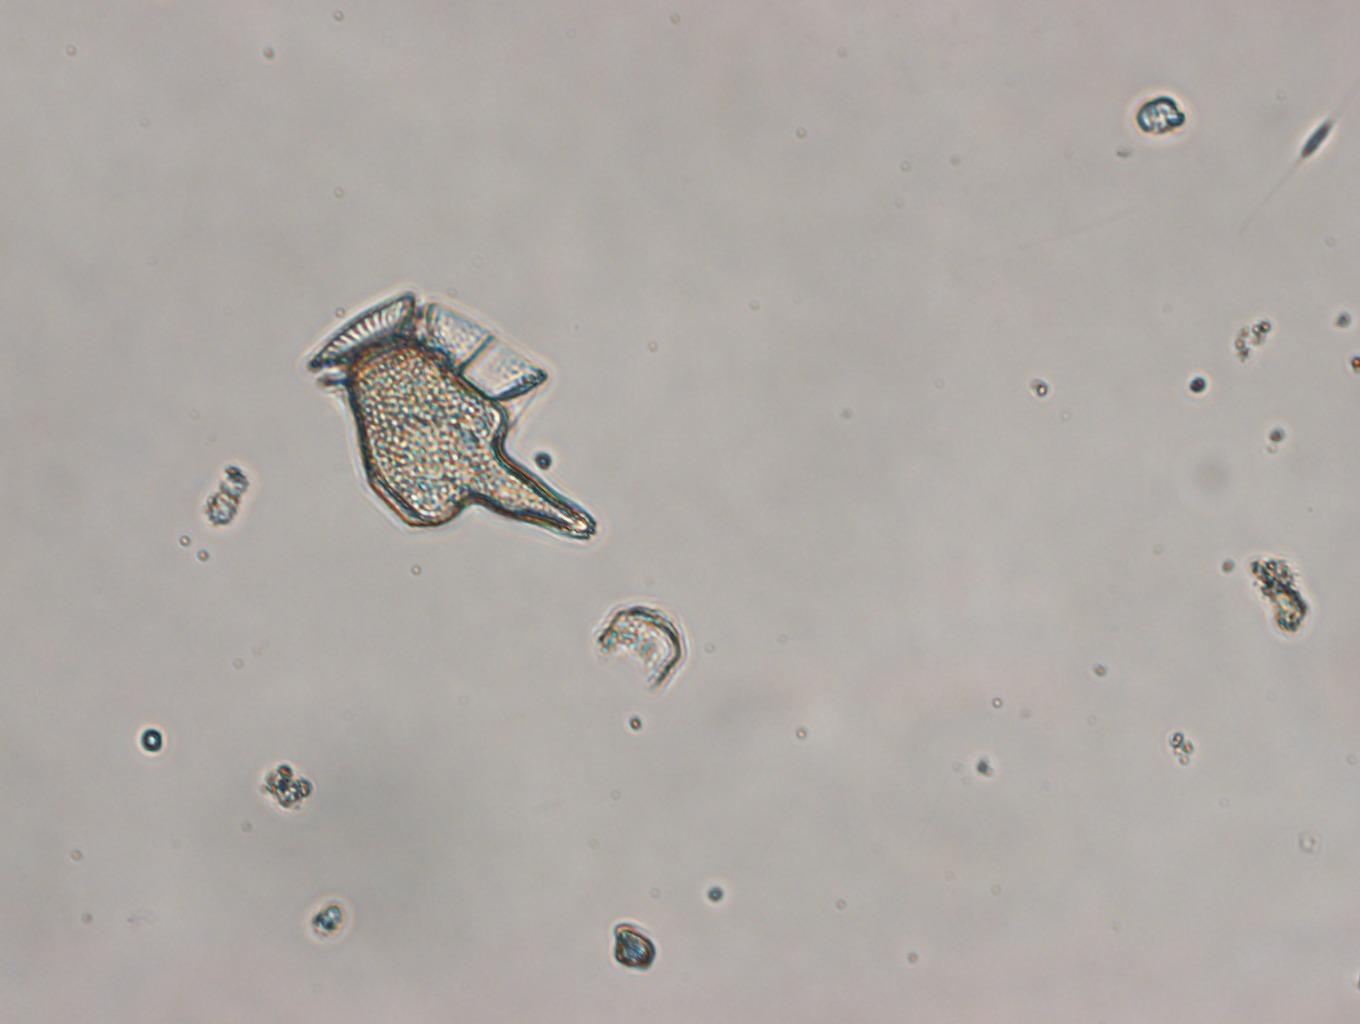dinophysis caudata: (306, 289, 598, 541)
